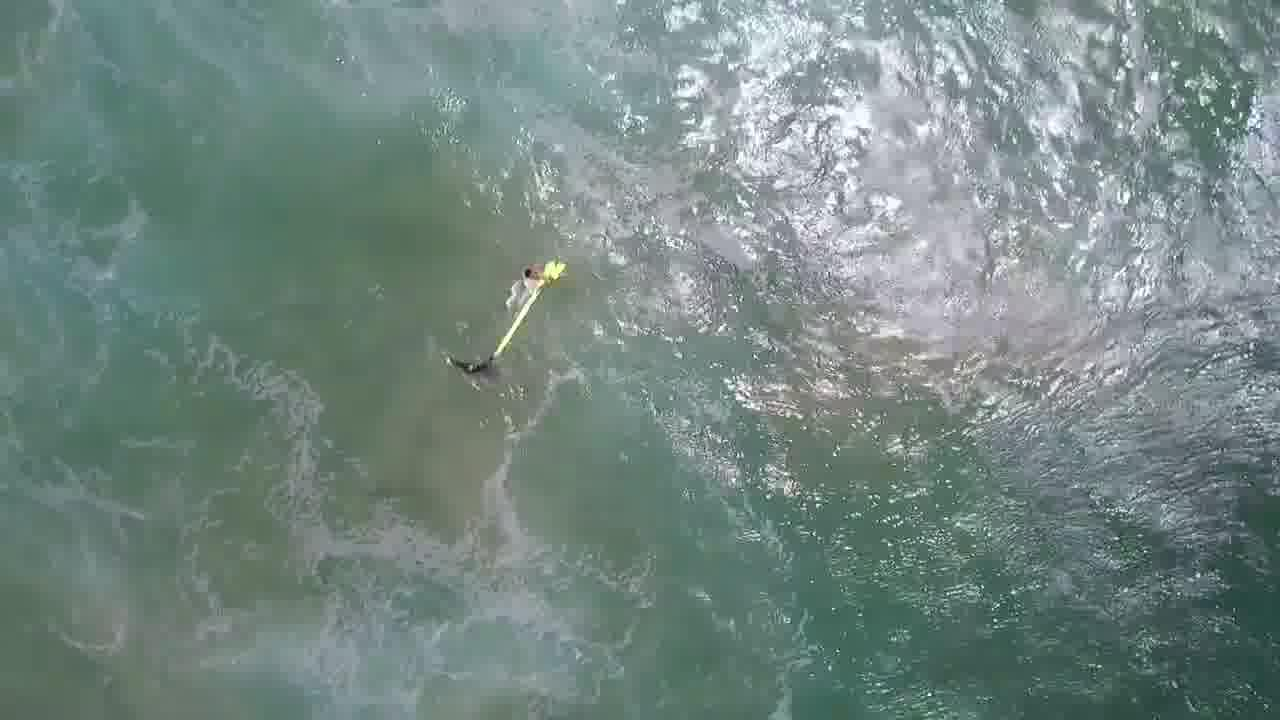swimmer: (452, 346, 495, 389), (511, 256, 538, 282)
